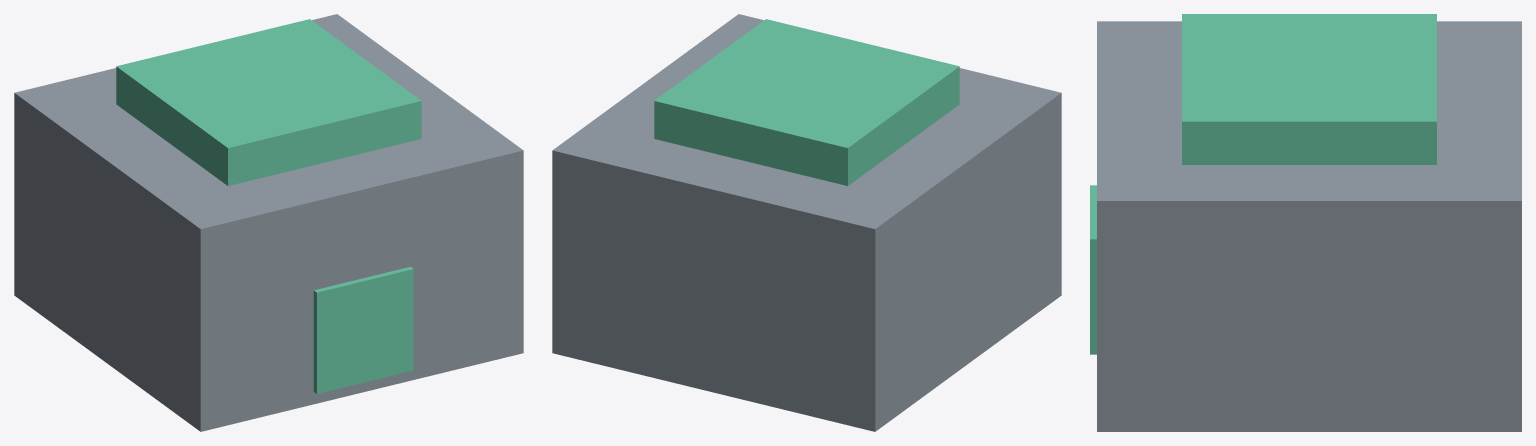
Rendered from CO_PowerPlant_LOD0.glb.
3 views of the same model, side by side, from view 1: azimuth 30°, elevation 25°; view 2: azimuth 150°, elevation 25°; view 3: azimuth 270°, elevation 25° (orthographic). The views are drawn at different scales.
Parts seen in each view (by area): view 1: EntranceGate; view 2: EntranceGate; view 3: EntranceGate.
Part boxes in pixels (x1,y1,x2,y2): EntranceGate: (14,14,523,431); EntranceGate: (552,14,1061,431); EntranceGate: (1090,14,1521,431).
Bounding box in the file's own units: 600 × 428 × 610.
